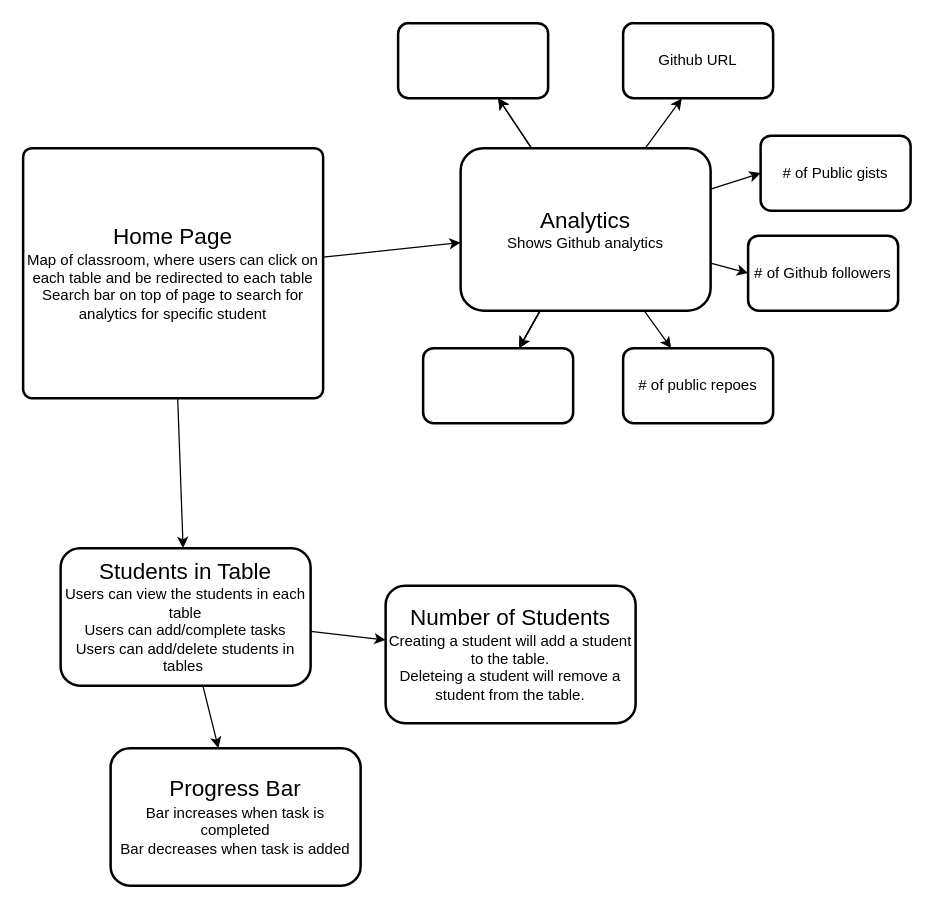
The diagram is 933 pixels wide and 908 high, and some of its shapes have lost their labels. Here are the shapes that lost their labels. From the top down, the box of each, then its label:
(396, 21, 549, 99): Github username
(421, 346, 574, 424): # of commits
